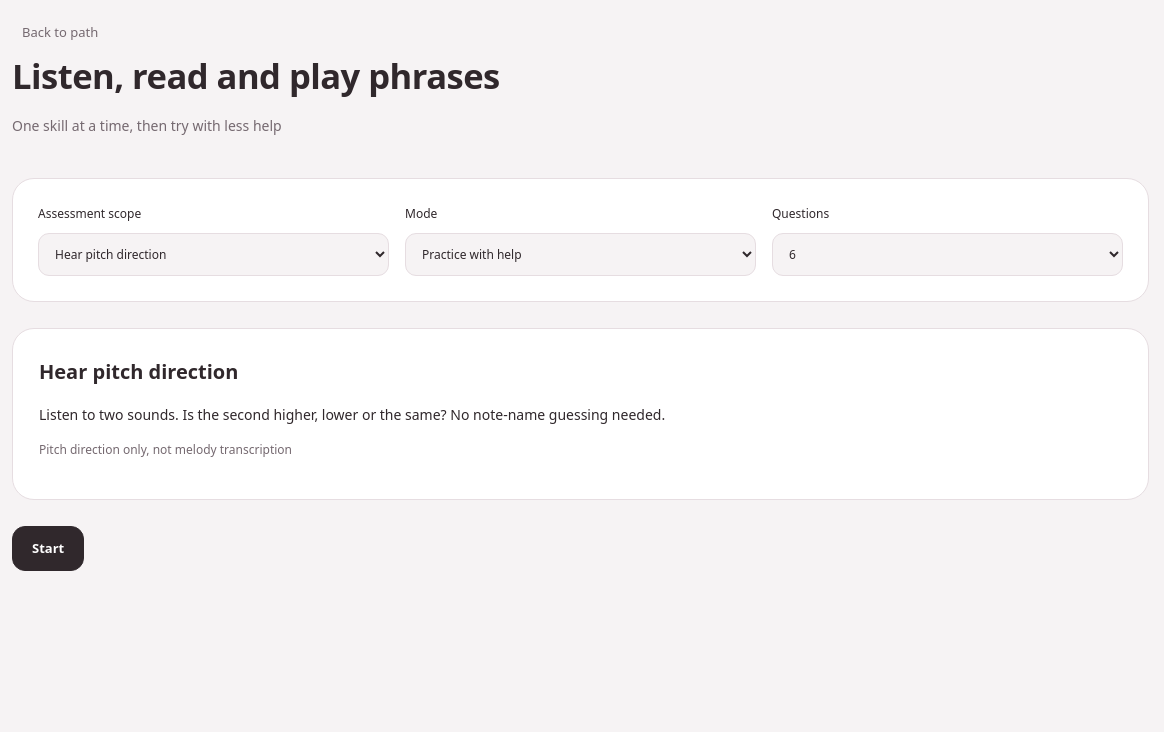
Test: stays paused when an outstanding audio request fails after pausing
The image size is (1164, 732).
Select "Try independently" in the dropdown labelled "Mode" at (580, 254), box [405, 233, 756, 276]
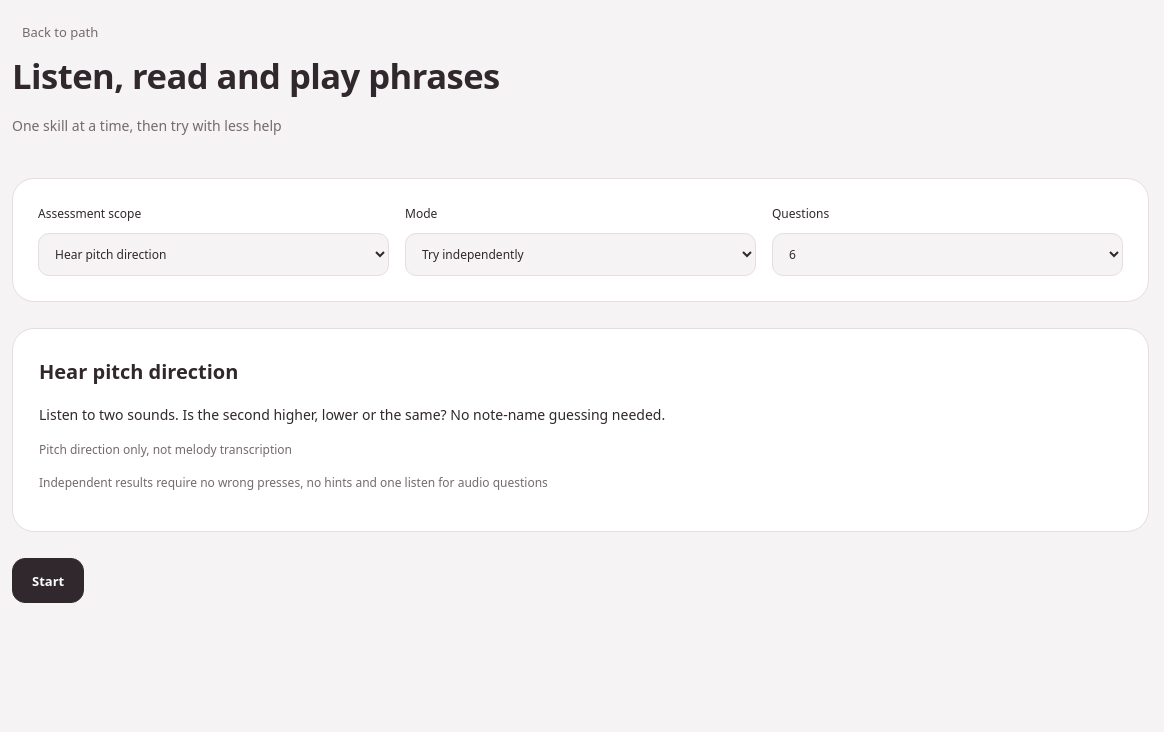
Select "3" in the dropdown labelled "Questions" at (948, 254), box [772, 233, 1123, 276]
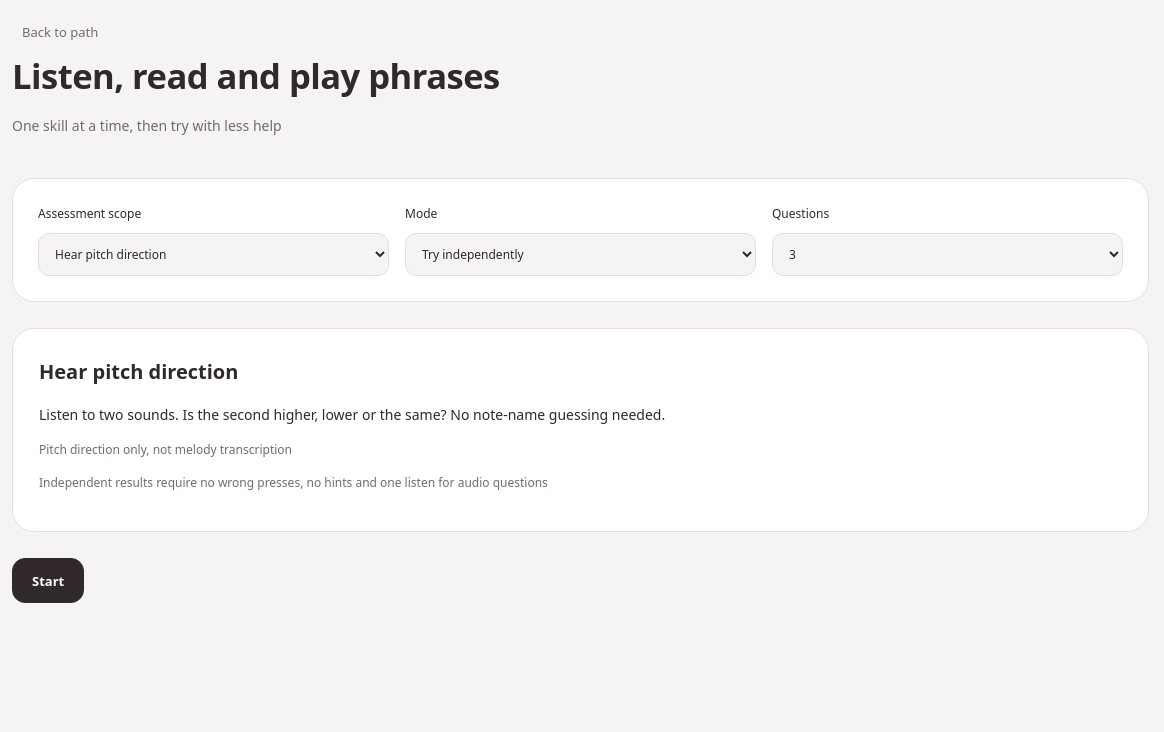
Click the button "Start" at (48, 581), box [12, 558, 84, 603]
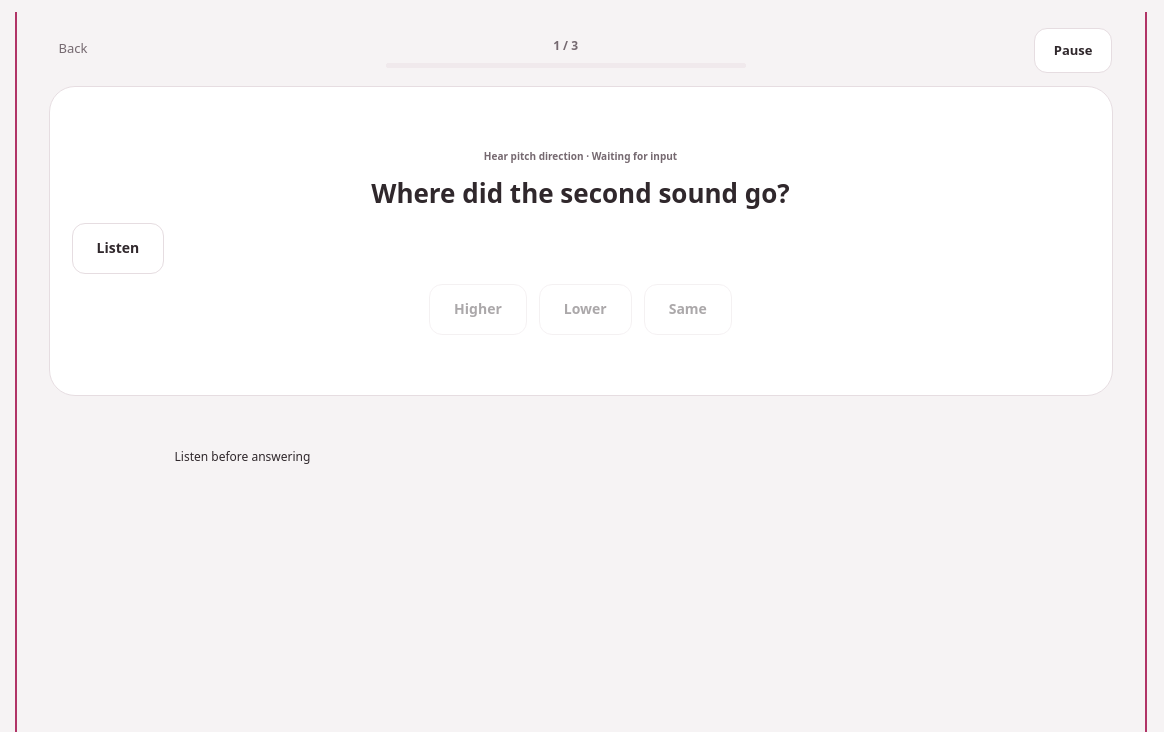
Click the button "Listen" at (118, 248), box [72, 223, 164, 274]
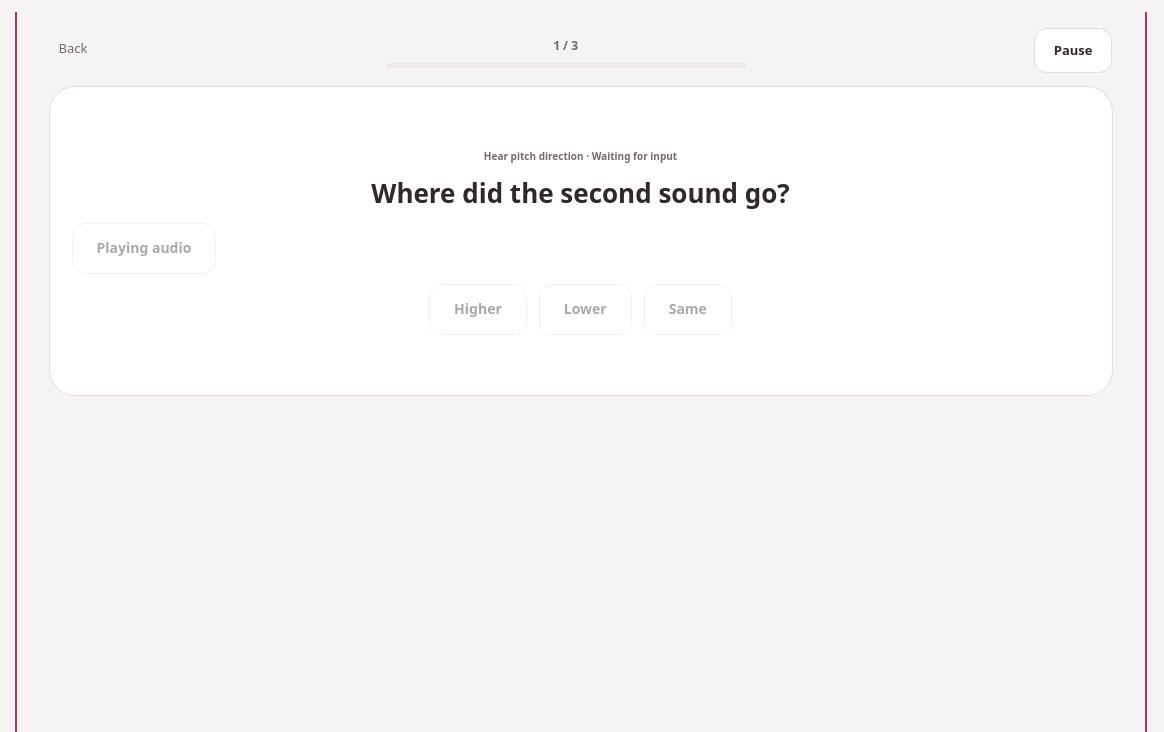
Click the button "Pause" at (1073, 50), box [1034, 28, 1112, 73]
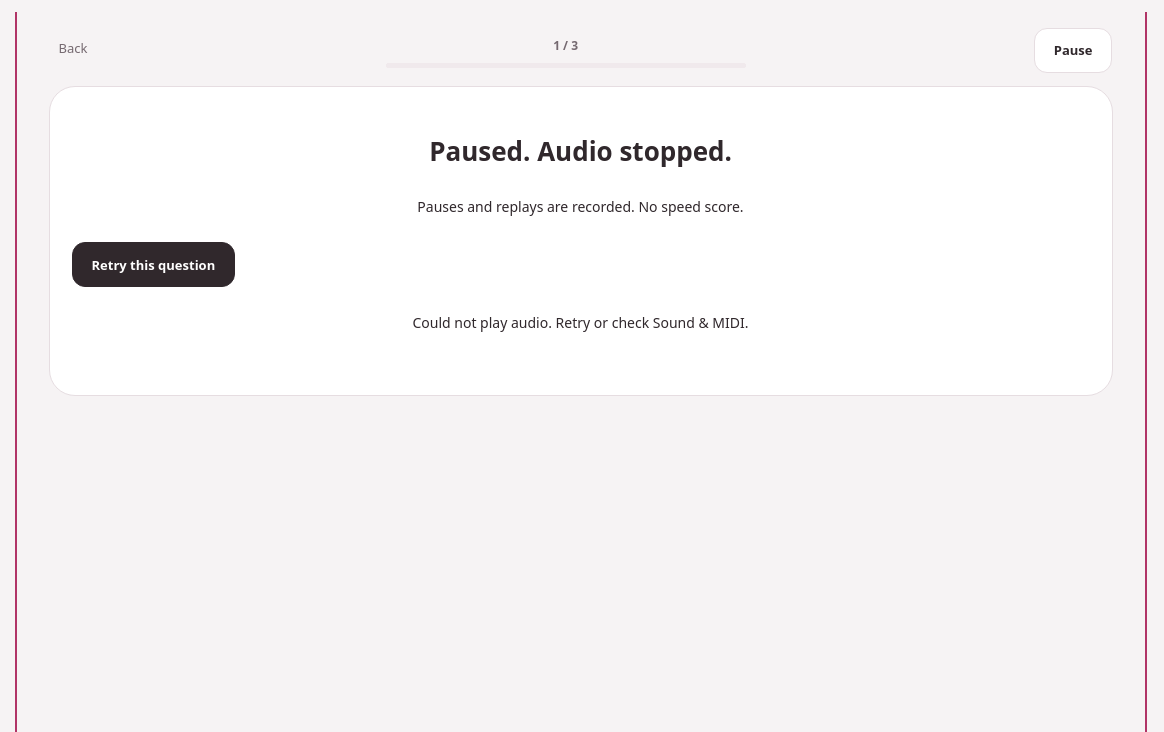
Result: the heading "Paused. Audio stopped." is shown at [429, 133, 732, 171]
Result: the button "Retry this question" is shown at [72, 242, 235, 287]
Result: the button "Higher" is gone
